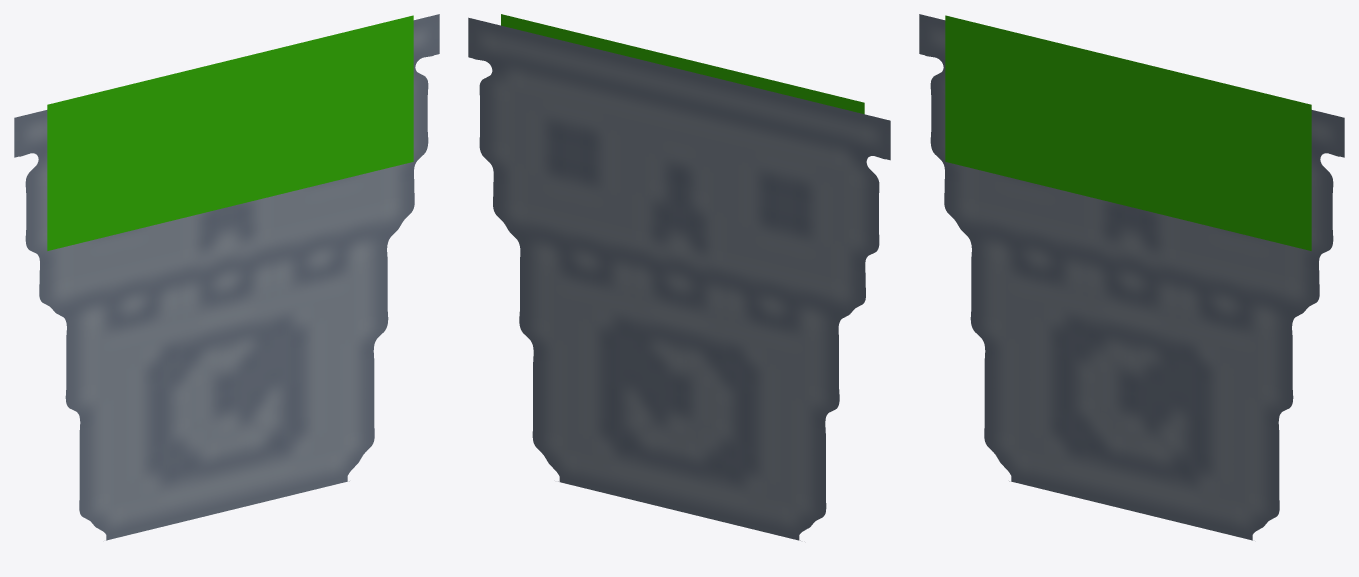
Rendered from MultiButton_01_down.fbx.
The picture shows the model from 3 angles, left to right: view 1: azimuth 30°, elevation 25°; view 2: azimuth 150°, elevation 25°; view 3: azimuth 330°, elevation 25°; orthographic projection.
Parts seen in each view (by area): view 1: polySurface1; view 2: polySurface1; view 3: polySurface1.
Boxes of the visible parts, x1,y1,x2,y2 form: polySurface1: [14, 14, 439, 540]; polySurface1: [468, 14, 890, 540]; polySurface1: [919, 14, 1344, 540].
Bounding box in the file's own units: 1 × 1.02 × 0.0139.
Materials: 2 (1 with a texture image).
